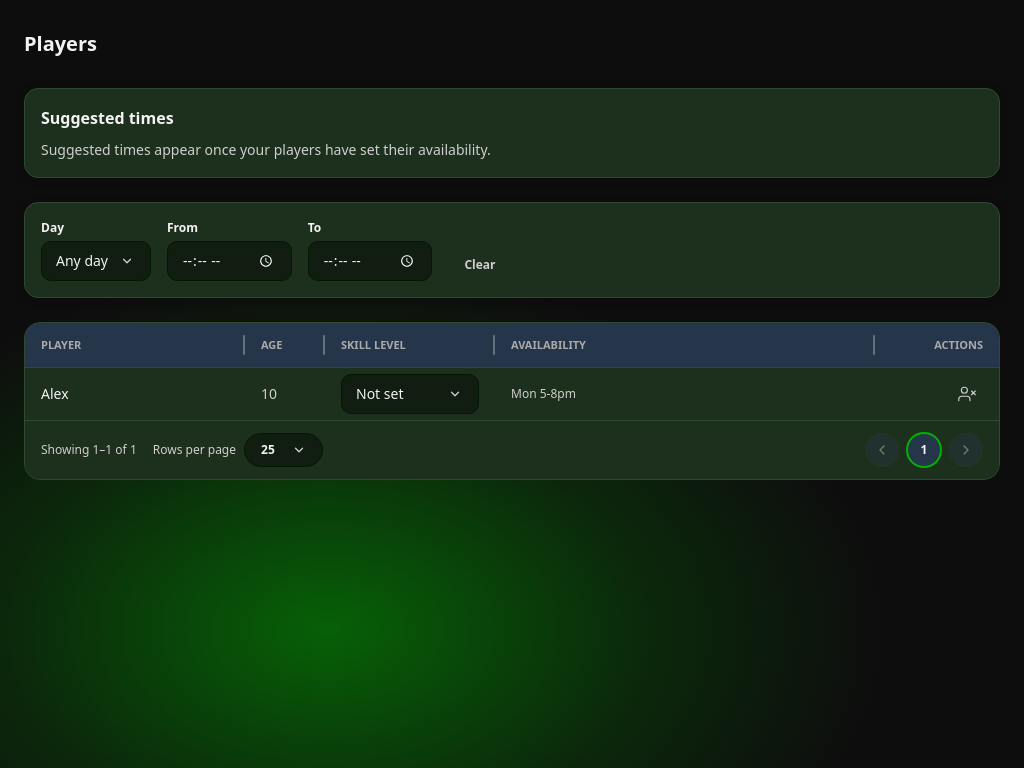
Scenario: PlayersPage (trainer) › removes a player after confirmation (DELETE /trainers/:id/players/:playerProfileId) and refreshes the roster
Expected: the row "Alex 10 Mon 5-8pm" is shown, [25,368,999,420]
Click the button named "Remove Alex".
click(967, 394)  # box [951,378,983,410]
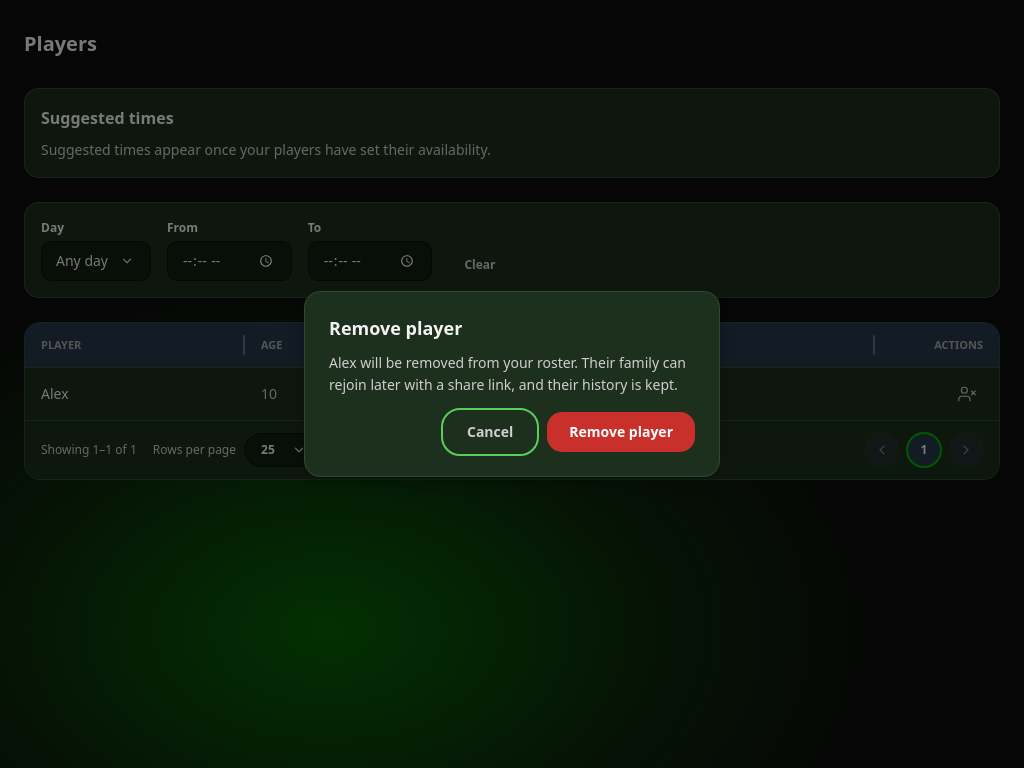
Now the dialog shows "removed from your roster", box [329,353,686,394]
Click the button "Remove player".
click(621, 432)  # box [547,412,695,452]
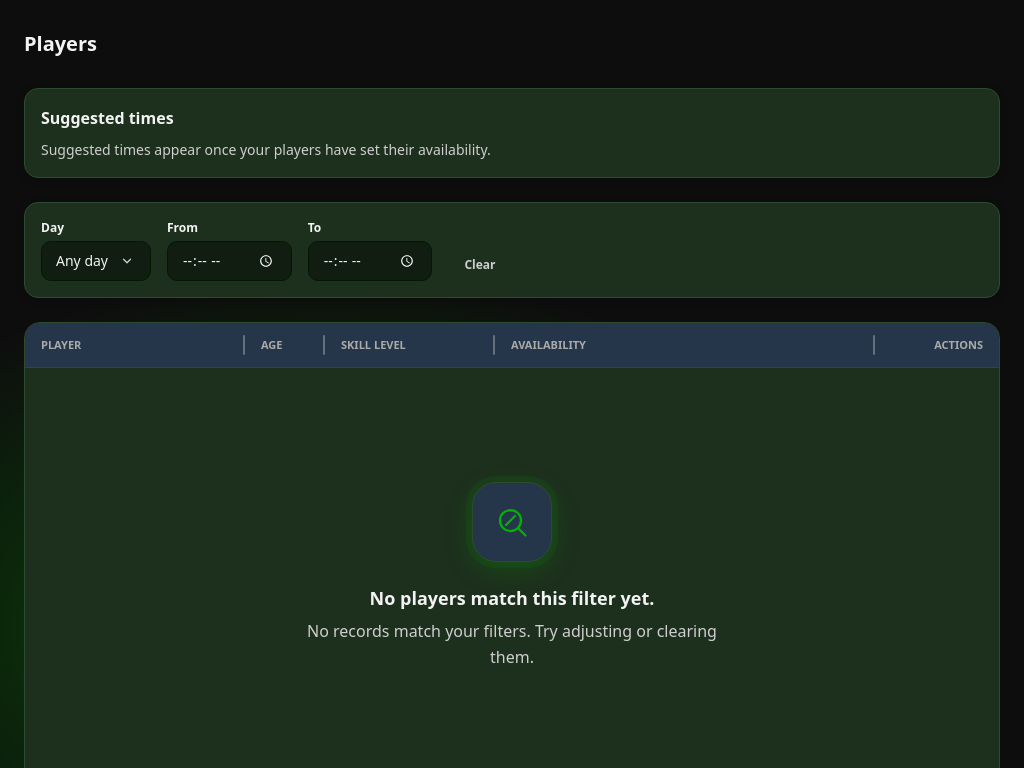
Now the dialog is gone
Now the text "Alex" is gone
